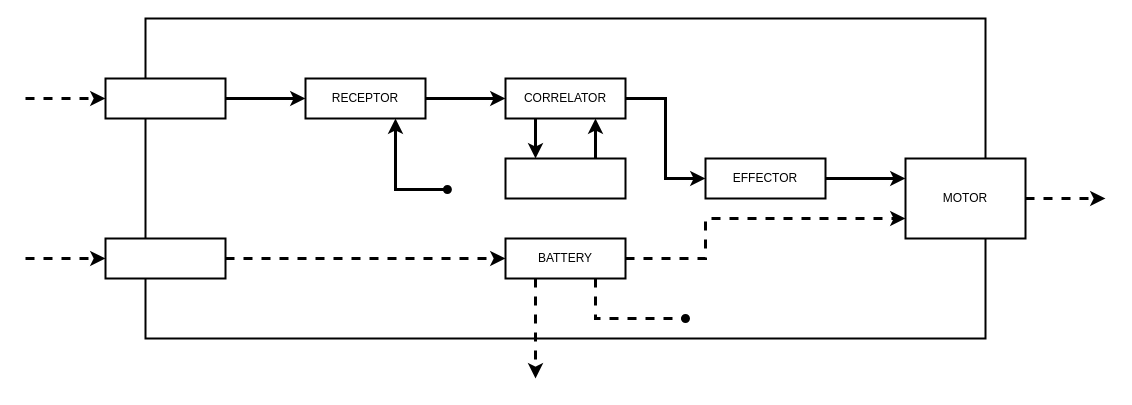
The diagram is 1132 pixels wide and 405 high, and some of its shapes have lost their labels. The shapes that lost their labels are listed below. From the top down, each one's centre as x and y in pixels, then its label:
At point (165, 98): "SENSOR".
At point (565, 178): "HOMEOSTAT".
At point (165, 258): "FEEDER".
